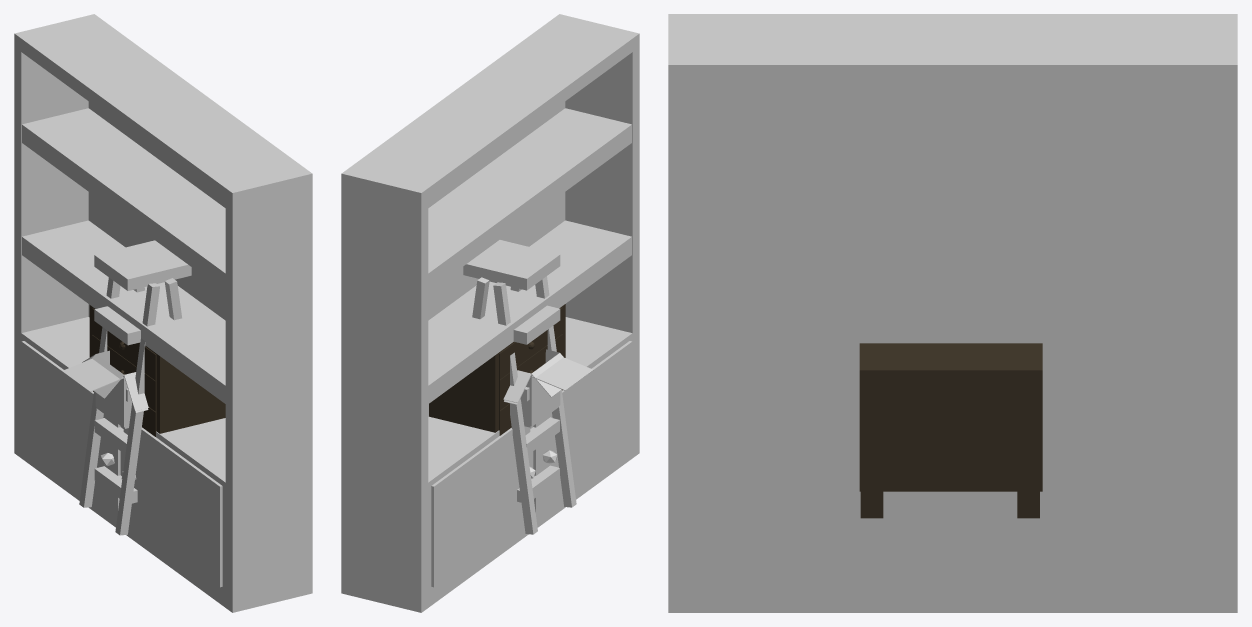
Rendered from Storage.fbx.
3 views of the same model, side by side, from view 1: azimuth 30°, elevation 25°; view 2: azimuth 150°, elevation 25°; view 3: azimuth 270°, elevation 25° (orthographic). The views are drawn at different scales.
Parts seen in each view (by area): view 1: CurpboardGreenhouse, ESTANTERIA, BedsideTable, Cube.002, CardboardBox; view 2: CurpboardGreenhouse, ESTANTERIA, BedsideTable, Cube.002, CardboardBox; view 3: CurpboardGreenhouse, BedsideTable.
Boxes of the visible parts, box(x1,y1,x2,y2) form: CurpboardGreenhouse: box(14, 14, 312, 612); ESTANTERIA: box(79, 240, 191, 535); BedsideTable: box(89, 305, 225, 436); Cube.002: box(82, 350, 148, 427); CardboardBox: box(62, 353, 148, 428); CurpboardGreenhouse: box(341, 14, 639, 612); ESTANTERIA: box(463, 240, 576, 534); BedsideTable: box(429, 304, 565, 435); Cube.002: box(503, 349, 563, 426); CardboardBox: box(504, 352, 593, 427); CurpboardGreenhouse: box(668, 14, 1237, 612); BedsideTable: box(859, 343, 1042, 518).
Size of the model in its own units: 1.13 by 2.65 by 2.5.
